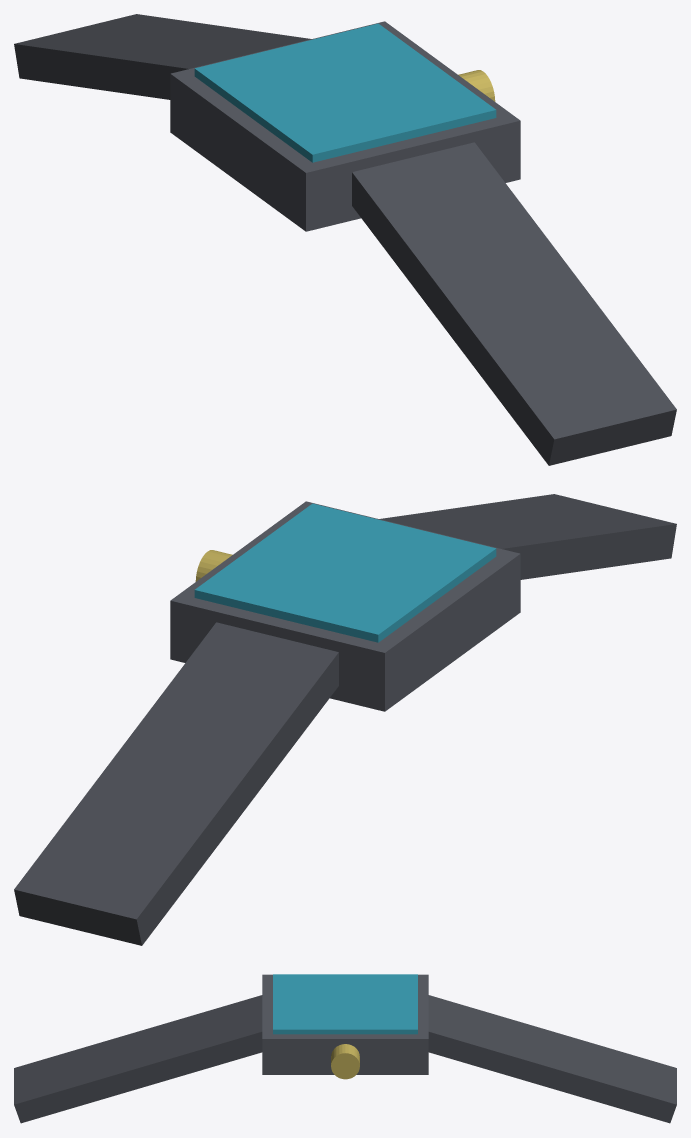
File: smartwatch.glb
The picture shows the model from 3 angles, top to bottom: view 1: azimuth 30°, elevation 25°; view 2: azimuth 150°, elevation 25°; view 3: azimuth 270°, elevation 25°; orthographic projection. The views are drawn at different scales.
Visible parts, largest first — view 1: geometry_3, geometry_1, geometry_0, geometry_4; view 2: geometry_4, geometry_1, geometry_0, geometry_3; view 3: geometry_3, geometry_4, geometry_1, geometry_0, geometry_2.
Part boxes in pixels (x1=…): geometry_3: x1=352, y1=142, x2=676, y2=465; geometry_1: x1=194, y1=23, x2=496, y2=162; geometry_0: x1=170, y1=21, x2=520, y2=231; geometry_4: x1=14, y1=14, x2=311, y2=99; geometry_4: x1=14, y1=622, x2=338, y2=945; geometry_1: x1=194, y1=503, x2=496, y2=642; geometry_0: x1=170, y1=501, x2=520, y2=711; geometry_3: x1=379, y1=494, x2=676, y2=579; geometry_3: x1=14, y1=995, x2=262, y2=1123; geometry_4: x1=428, y1=995, x2=676, y2=1123; geometry_1: x1=273, y1=974, x2=417, y2=1034; geometry_0: x1=262, y1=974, x2=428, y2=1074; geometry_2: x1=331, y1=1044, x2=359, y2=1079.
Size of the model in its own units: 0.048 by 0.0314 by 0.1832.
